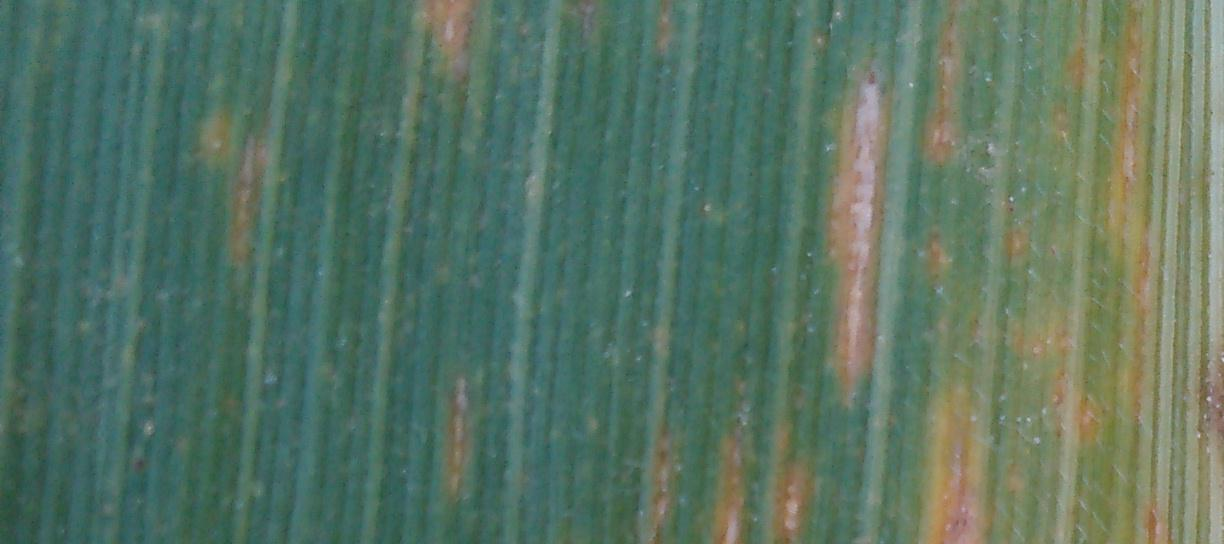tarspot: (131, 453, 149, 472), (1004, 201, 1017, 214)
